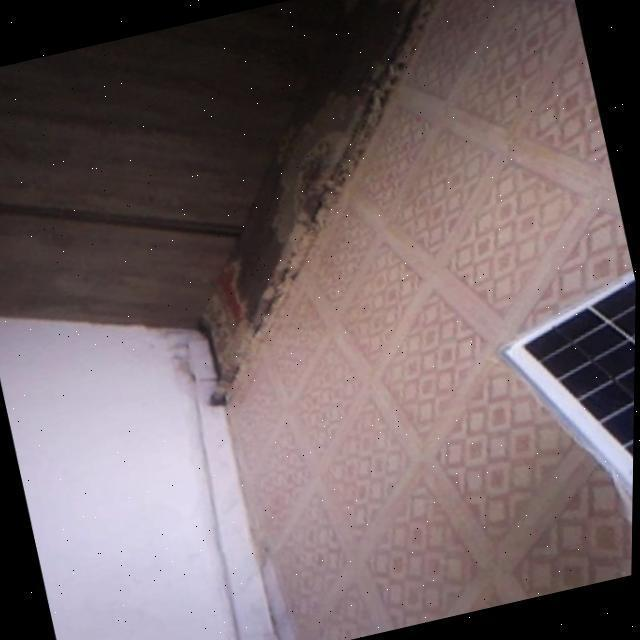Normal Solar Panel: (492, 271, 636, 548)
